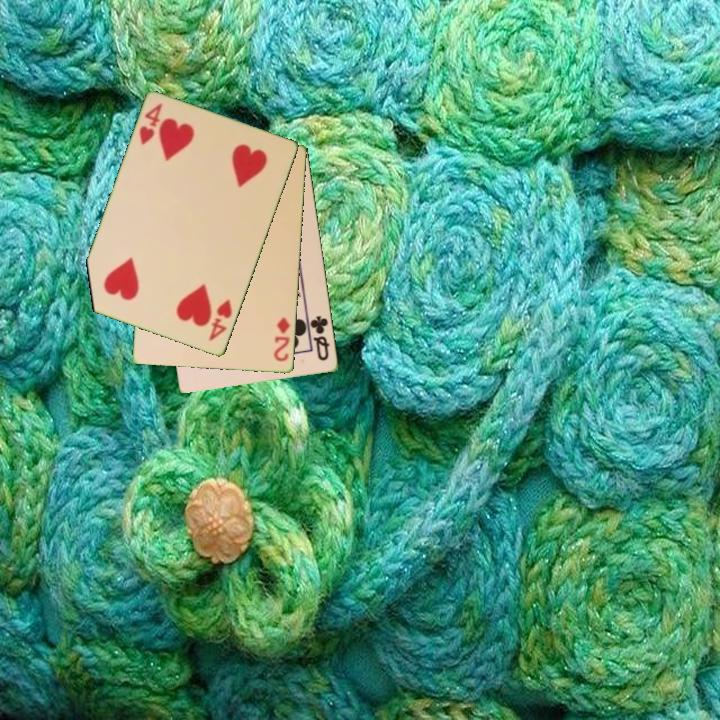2d: (270, 314, 293, 365)
4h: (136, 100, 166, 148), (206, 296, 235, 345)
Qc: (307, 312, 333, 364)
